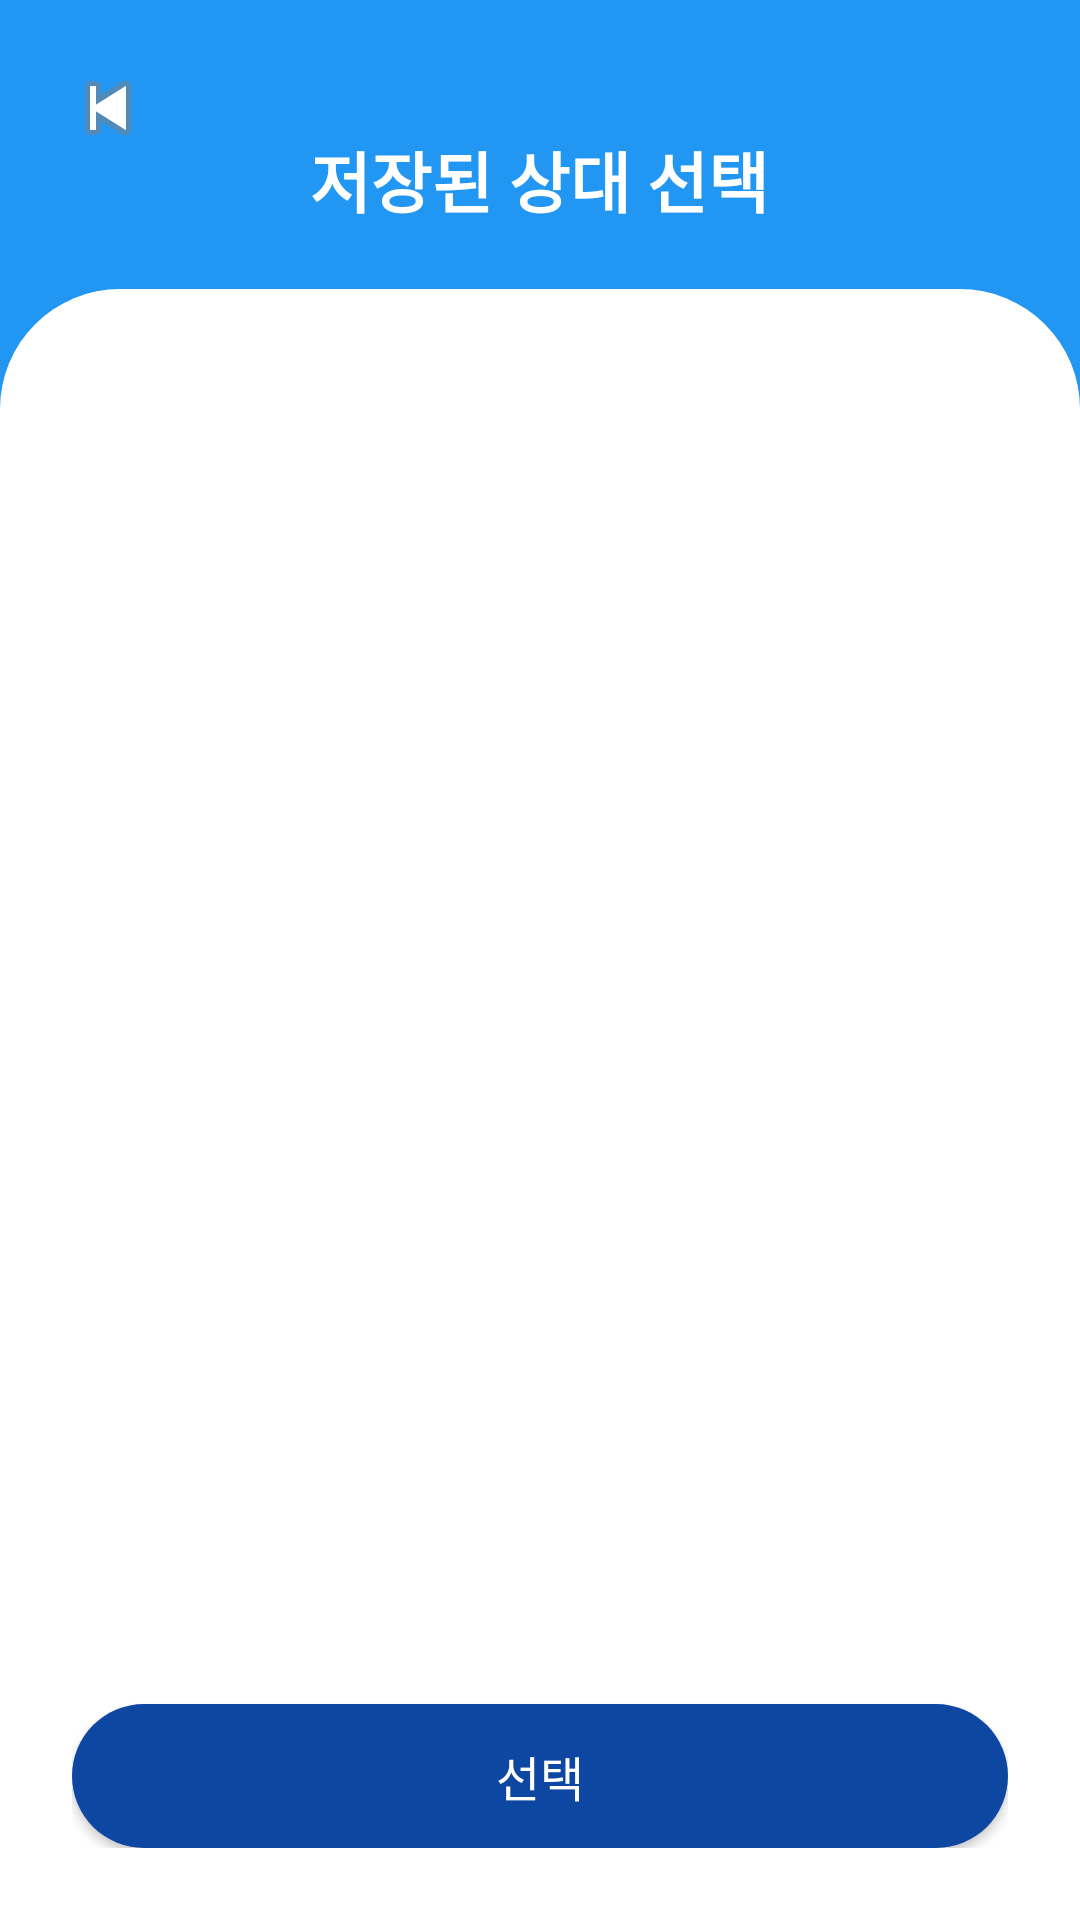

Icons on this 1080w x 1920h Android screen, each with its box as (x1, y1, x2, y2):
뒤로가기: (85, 81, 131, 135)
